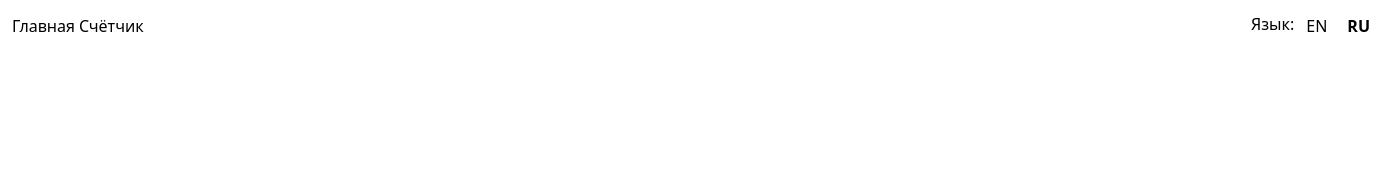
it: Nav › i18n › switches back to English after clicking EN when in Russian
Click the button "EN" at (1317, 26), box [1298,12,1335,40]
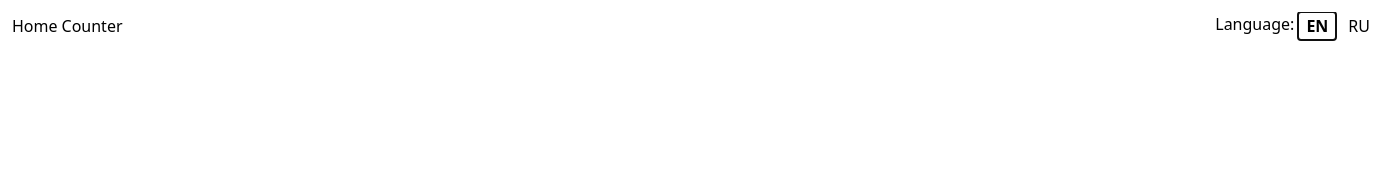
Expected: the link "Counter" is shown, [62,14,122,38]
Now the link "Home" is shown, box [12,14,58,38]
